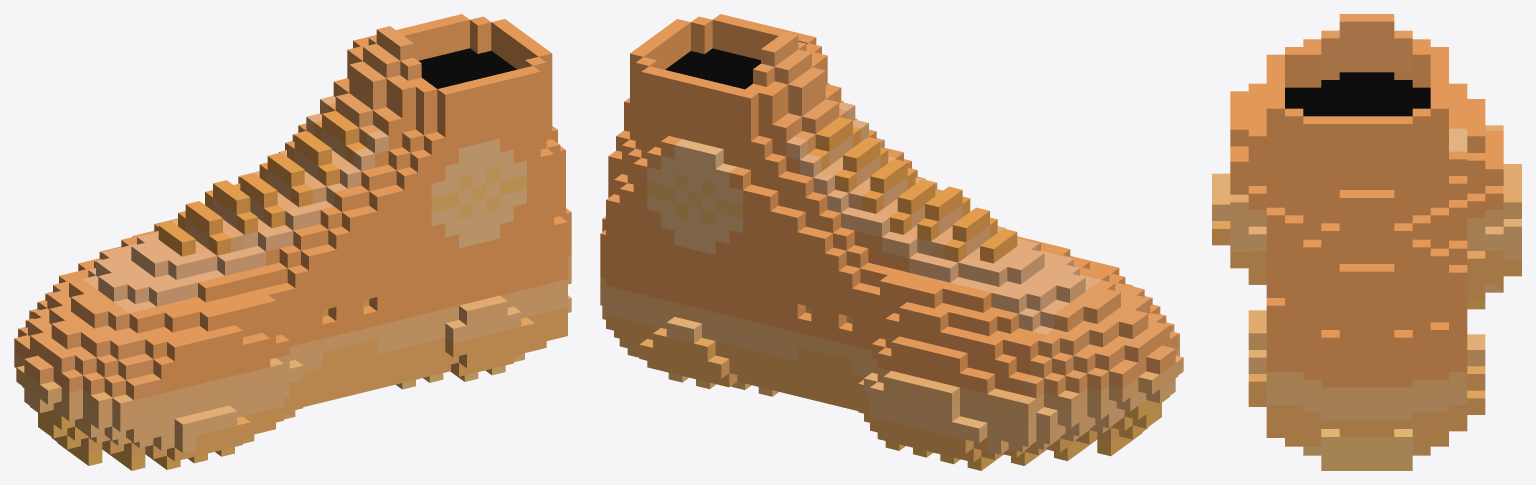
Rendered from Latte.fbx.
The picture shows the model from 3 angles, left to right: view 1: azimuth 30°, elevation 25°; view 2: azimuth 150°, elevation 25°; view 3: azimuth 270°, elevation 25°; orthographic projection. The views are drawn at different scales.
Visible parts, largest first — view 1: Untitled; view 2: Untitled; view 3: Untitled.
Boxes of the visible parts, <box> form: Untitled: <box>14,14,571,470</box>; Untitled: <box>600,14,1183,470</box>; Untitled: <box>1212,14,1521,470</box>.
Bounding box in the file's own units: 390 × 230 × 170.
